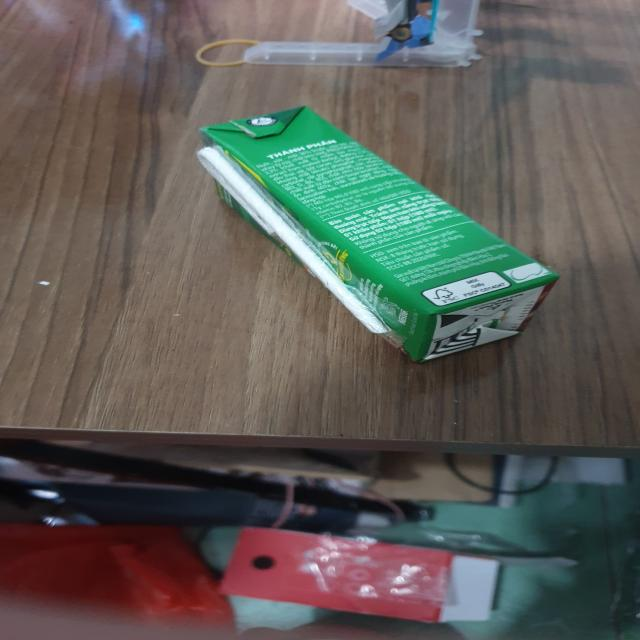Milo: (192, 105, 566, 367)
